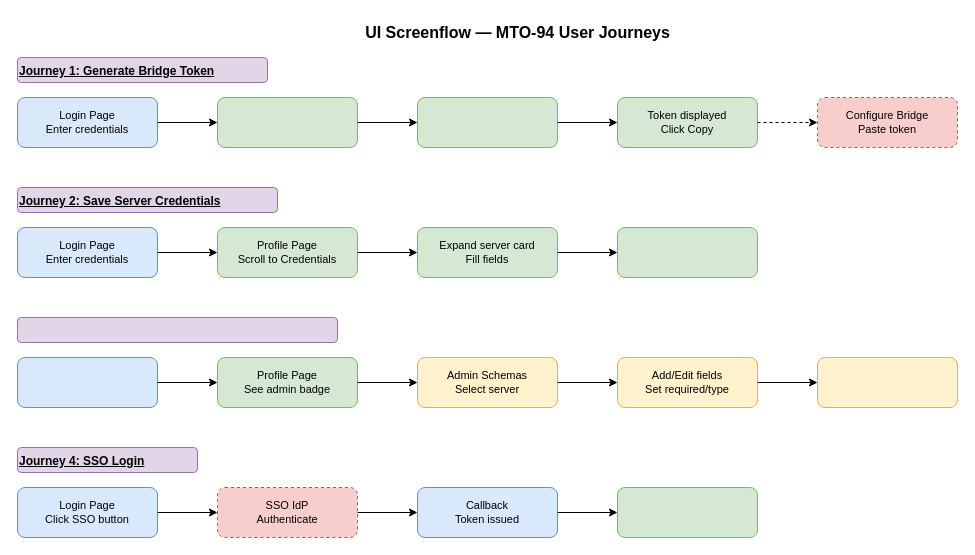
Image size: 975x555. Some labels were removed from this diagram. Here are the shapes that lost their labels. From the top down, the centre of each, then its label:
At point (287, 122): "Profile Page View user info".
At point (487, 122): "Set expiry days Click Generate".
At point (687, 252): "Click Save Success toast".
At point (177, 329): "Journey 3: Admin Manage Credential Schemas".
At point (87, 382): "Login Page Admin credentials".
At point (887, 382): "Save schema Success toast".
At point (687, 512): "Profile Page Logged in".
